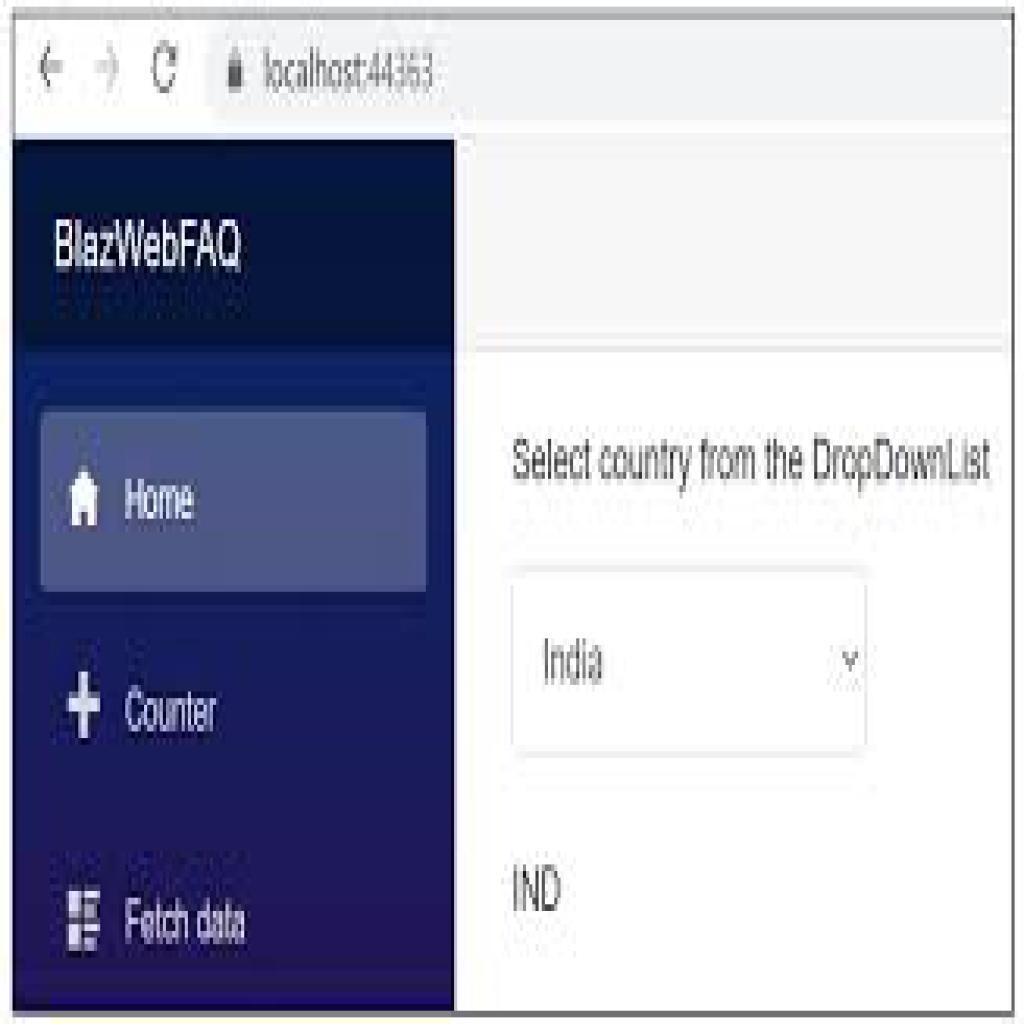dropdown: (516, 575, 870, 763)
icon: (64, 666, 107, 752), (63, 879, 105, 962), (64, 460, 103, 548)
